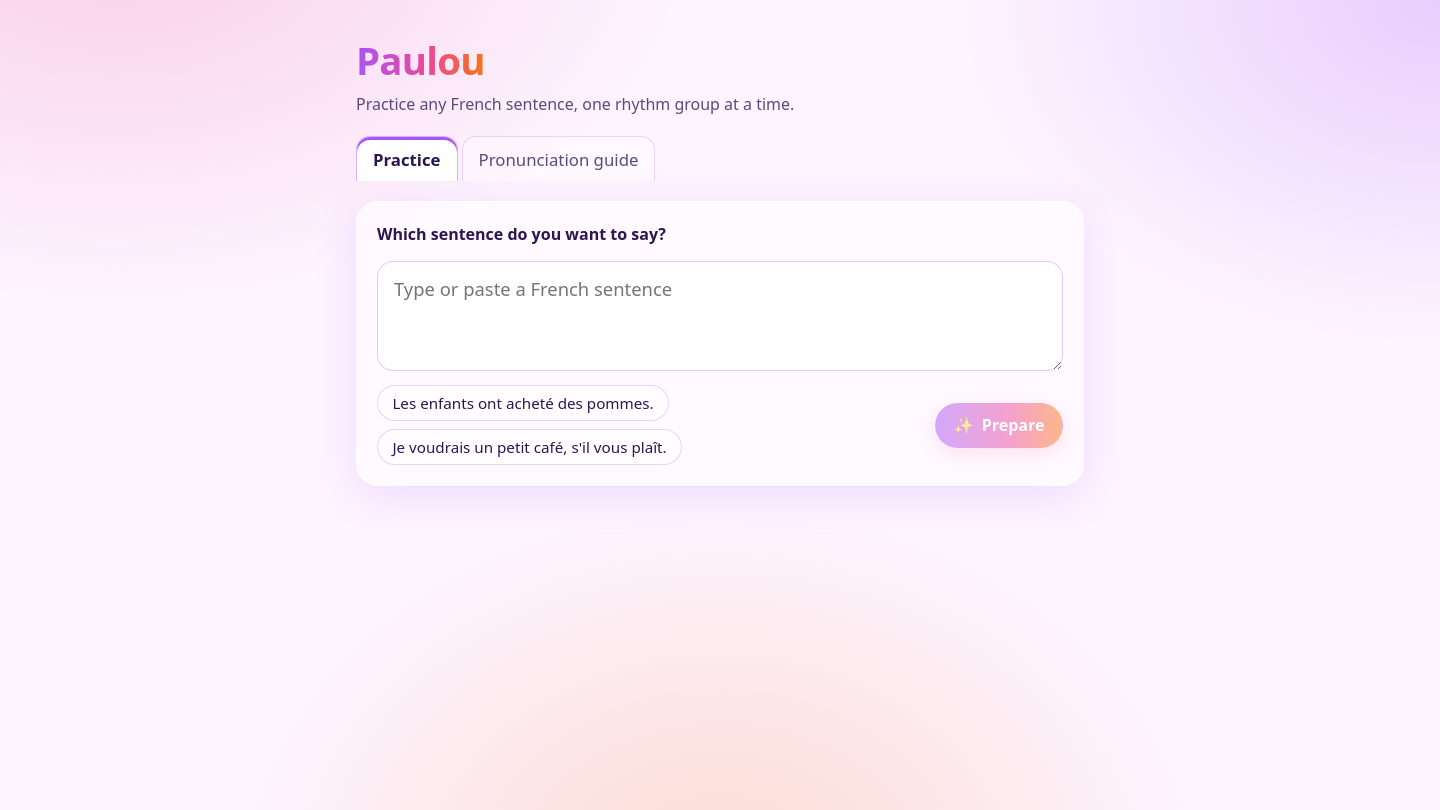
Test: App › shows the server's message when preparation fails and keeps the text
The image size is (1440, 810).
Type "Bonjour les amis" into the text box labelled "Which sentence do you want to say?" at (720, 316), box 377,261 -> 1063,371
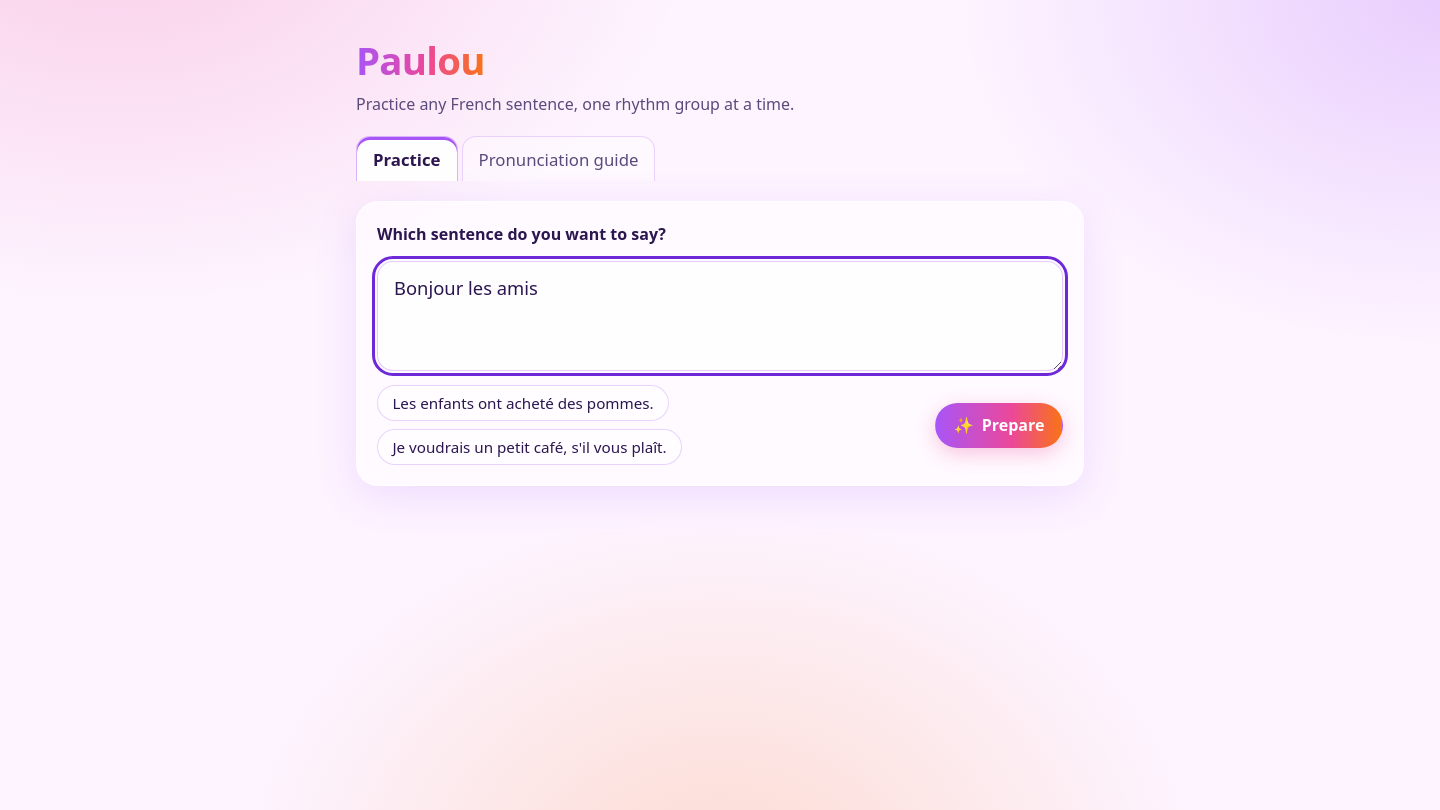
Click the button "✨ Prepare" at (999, 425), box 935,403 -> 1063,448
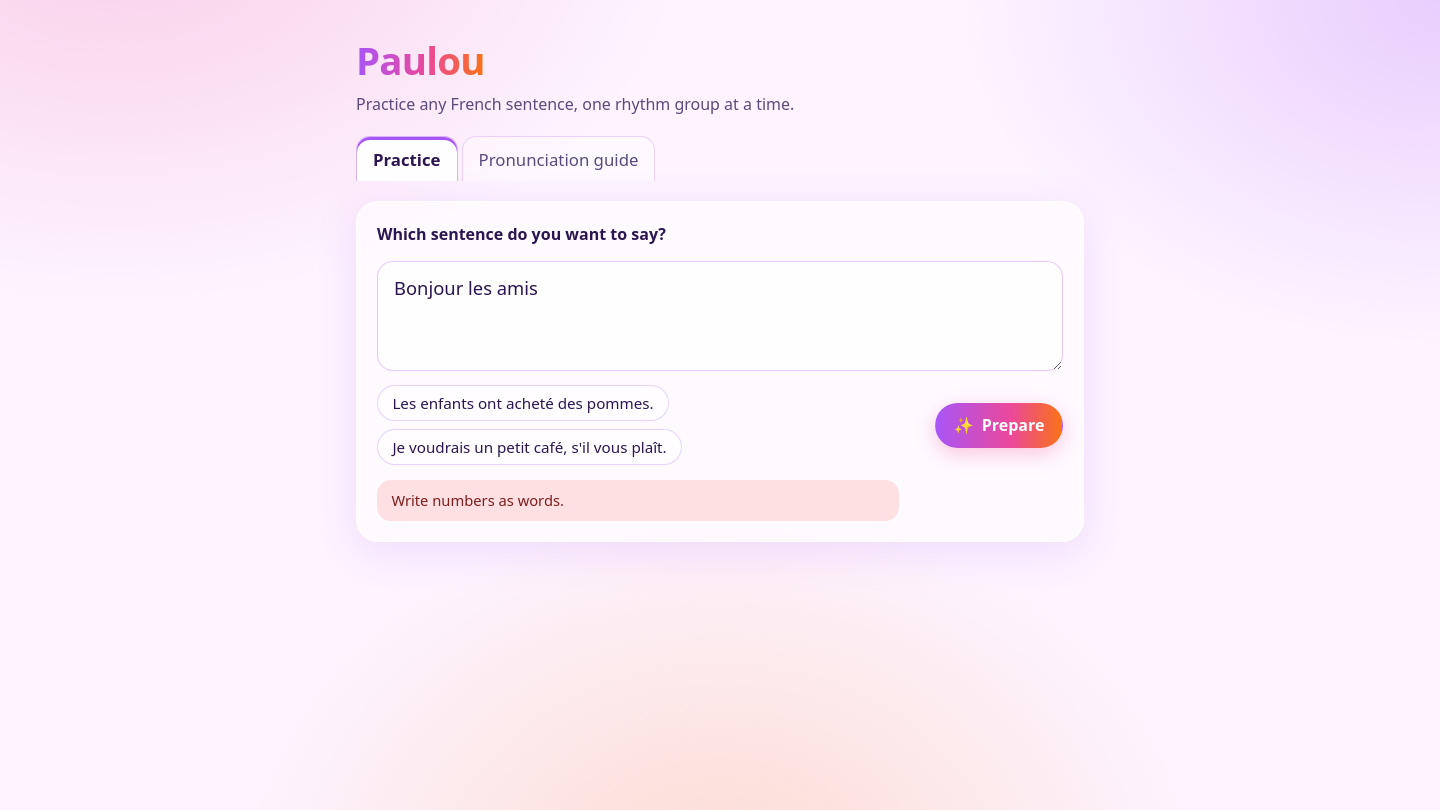
Now the text box labelled "Which sentence do you want to say?" holds "Bonjour les amis", box 377,261 -> 1063,371
Now the message reads "Write numbers as words.", box 391,490 -> 564,510
